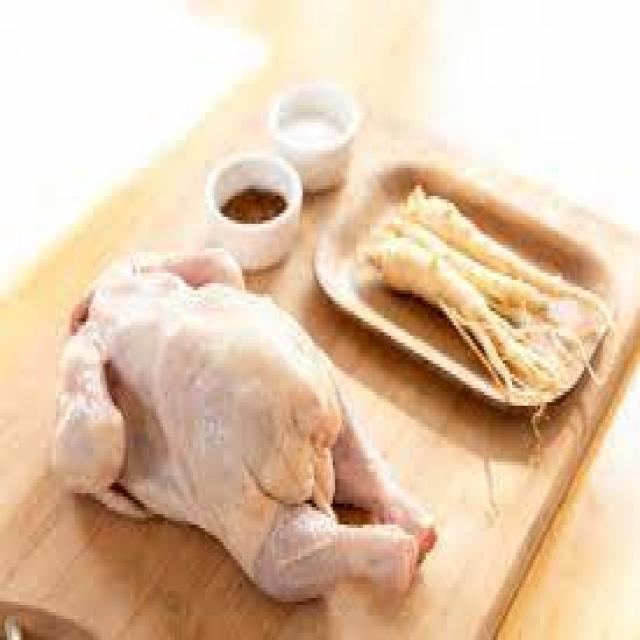chicken: (42, 235, 440, 609)
